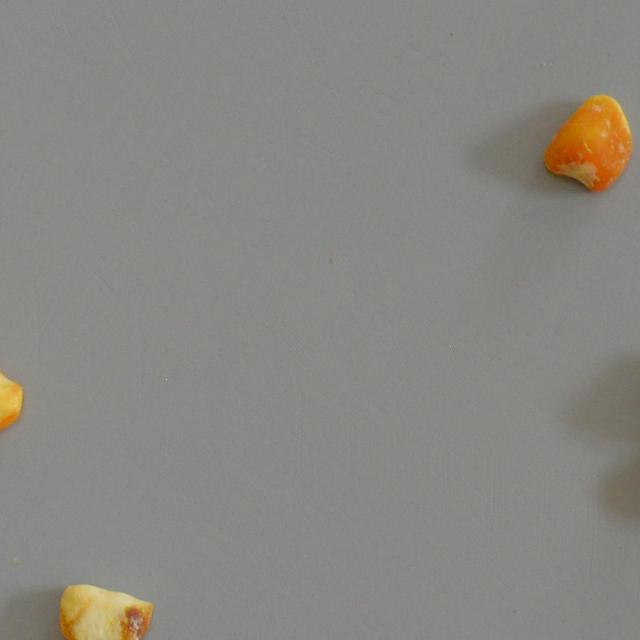dañado: (536, 84, 640, 192), (50, 562, 163, 640), (0, 344, 34, 452)
